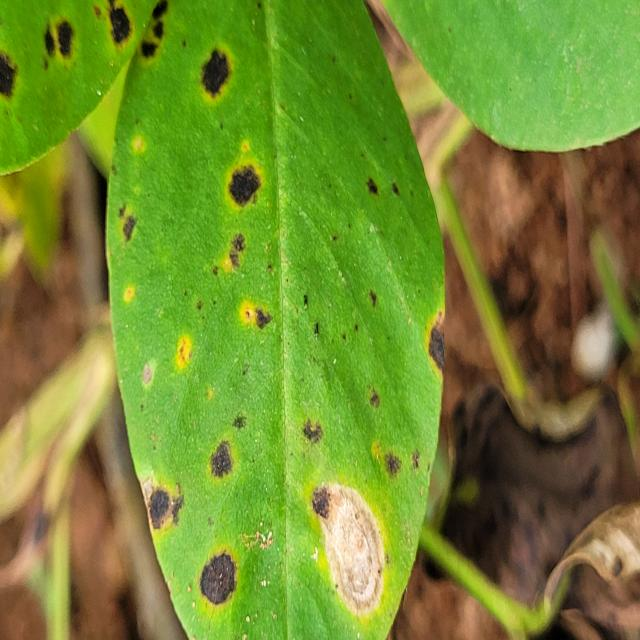Ground nut_tikka leaf spot: (106, 0, 446, 640)
